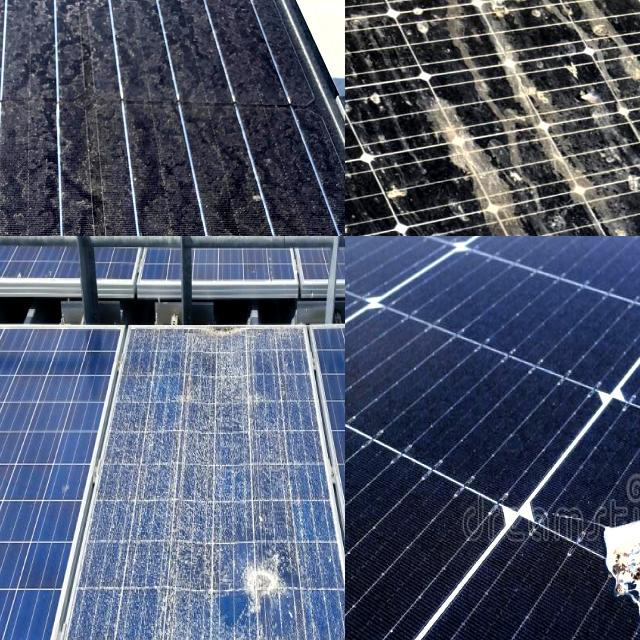bird: (347, 64, 488, 210), (530, 119, 640, 236), (578, 491, 640, 640), (555, 0, 640, 108), (381, 0, 539, 55), (345, 7, 412, 122), (345, 136, 396, 236), (345, 167, 391, 236)
dust: (23, 14, 274, 236), (0, 29, 116, 236)
hotspot: (236, 537, 305, 640)
